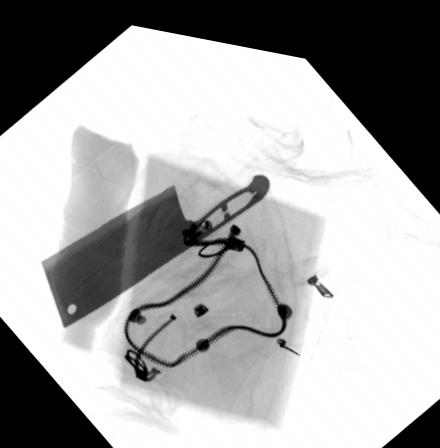Knife: (39, 161, 270, 326)
